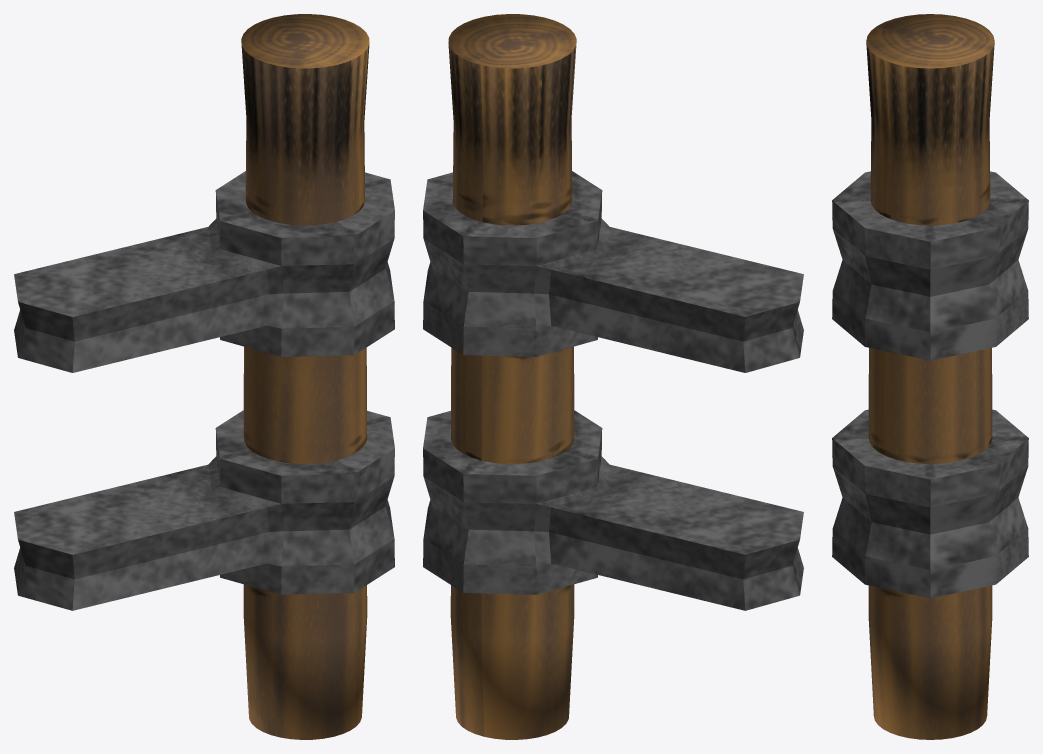
File: Torch.glb
3 renders of one model, left to right at view 1: azimuth 30°, elevation 25°; view 2: azimuth 150°, elevation 25°; view 3: azimuth 270°, elevation 25°, orthographic.
Parts seen in each view (by area): view 1: TorchMain, TopRaccet, TopRaccet.001; view 2: TorchMain, TopRaccet, TopRaccet.001; view 3: TorchMain, TopRaccet, TopRaccet.001.
Part boxes in pixels (<box>): TorchMain: <box>241,14,369,739</box>; TopRaccet: <box>14,171,394,372</box>; TopRaccet.001: <box>14,410,394,610</box>; TorchMain: <box>448,14,576,739</box>; TopRaccet: <box>423,171,803,372</box>; TopRaccet.001: <box>423,410,803,610</box>; TorchMain: <box>866,14,994,739</box>; TopRaccet: <box>832,171,1028,360</box>; TopRaccet.001: <box>832,409,1028,598</box>.
Bounding box in the file's own units: 0.8201 × 1.42 × 0.375.
2 materials, 2 textured.
